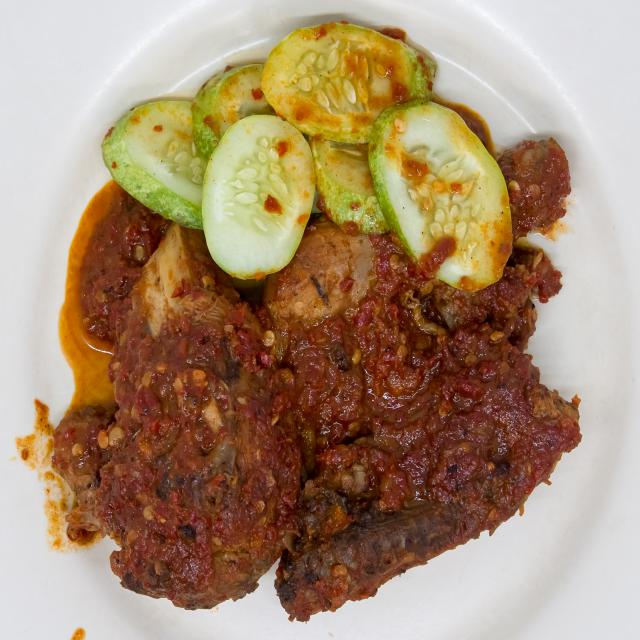Ayam-Bumbu-Rujak: (54, 60, 594, 628)
